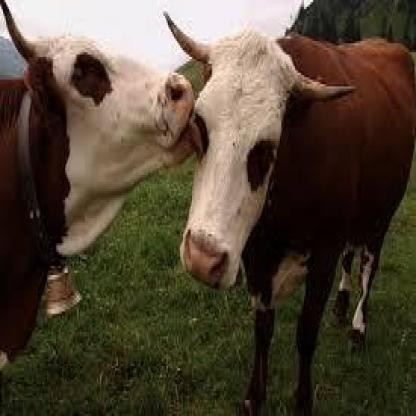cow: (160, 1, 416, 415), (0, 0, 203, 373)
